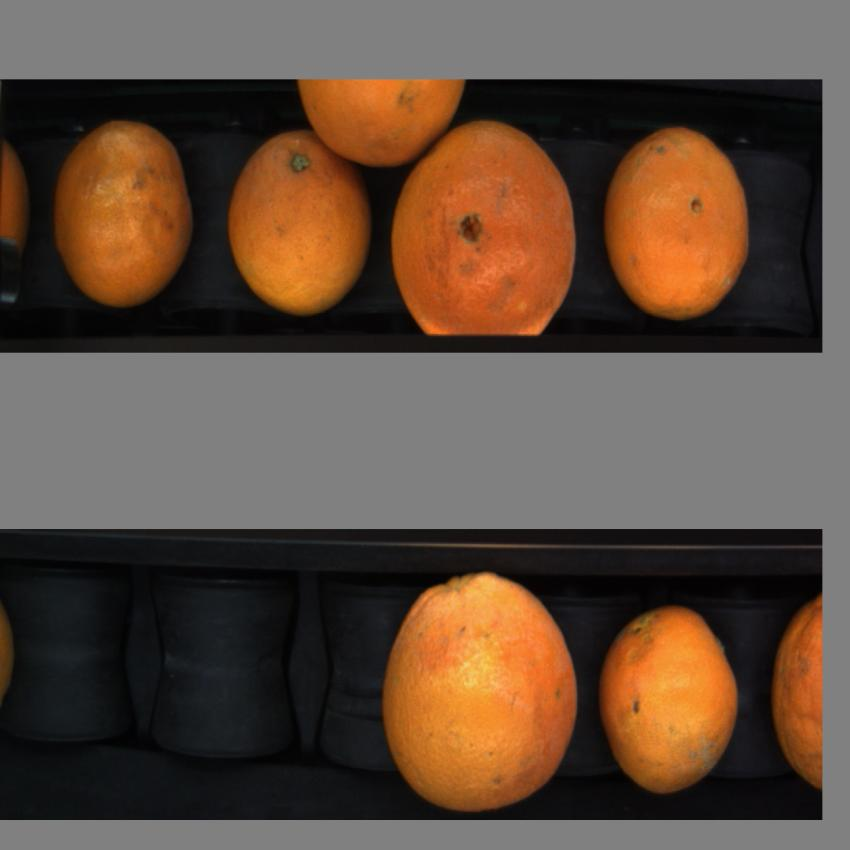Buen estado: (374, 560, 585, 822), (388, 117, 583, 349), (599, 119, 767, 333), (593, 598, 750, 801), (218, 125, 378, 320), (292, 74, 479, 174), (764, 585, 822, 804)
Mal estado: (50, 112, 203, 315)
